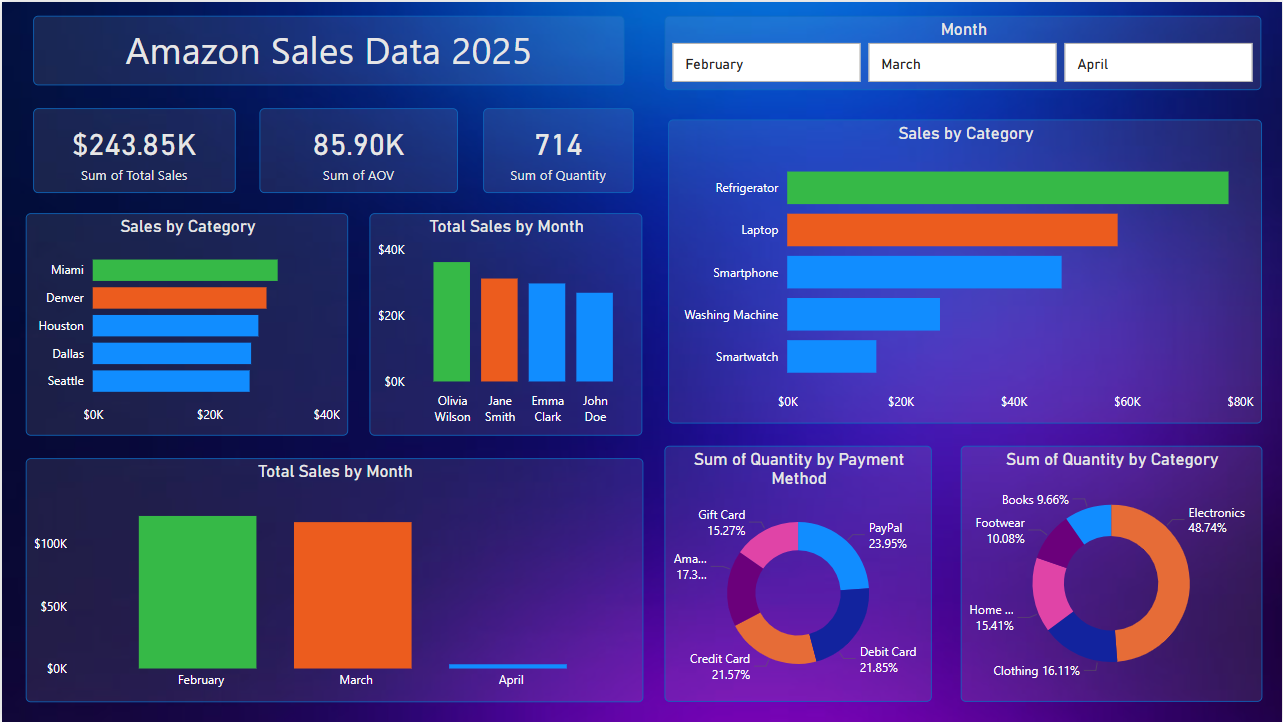

Layout of this report page (visuals, bound fields, positions):
{"tool":"powerbi","page":{"name":"Page 1","canvas":[1280,720],"ordinal":0},"visuals":[{"type":"columnChart","title":"Total Sales by Month","fields":{"Y":["amazon_sales_data 2025.Total Sales"],"Category":["amazon_sales_data 2025.Date.Variation.Date Hierarchy.Month"]},"box":[23.8,456.2,617.5,243.8],"z":0},{"type":"barChart","title":"Sales by Category","fields":{"Y":["amazon_sales_data 2025.Total Sales"],"Category":["amazon_sales_data 2025.Product"]},"box":[666.2,117.5,593.8,303.8],"z":1},{"type":"donutChart","fields":{"Category":["amazon_sales_data 2025.Category"],"Y":["amazon_sales_data 2025.Quantity"]},"box":[958.8,443.8,301.2,256.2],"z":2},{"type":"donutChart","fields":{"Y":["amazon_sales_data 2025.Quantity"],"Category":["amazon_sales_data 2025.Payment Method"]},"box":[662.5,443.8,267.5,256.2],"z":3},{"type":"card","fields":{"Values":["amazon_sales_data 2025.Total Sales"]},"box":[31.2,106.2,202.5,85],"z":4},{"type":"card","fields":{"Values":["amazon_sales_data 2025.Quantity"]},"box":[481.2,106.2,150,85],"z":5},{"type":"card","fields":{"Values":["amazon_sales_data 2025.AOV"]},"box":[257.5,106.2,198.8,85],"z":6},{"type":"barChart","title":"Sales by Category","fields":{"Y":["amazon_sales_data 2025.Total Sales"],"Category":["amazon_sales_data 2025.Customer Location"]},"box":[23.8,211.2,322.5,222.5],"z":7},{"type":"columnChart","title":"Total Sales by Month","fields":{"Y":["amazon_sales_data 2025.Total Sales"],"Category":["amazon_sales_data 2025.Customer Name"]},"box":[367.5,211.2,272.5,222.5],"z":8},{"type":"textbox","box":[31.4,13.3,591.2,70],"z":9},{"type":"advancedSlicerVisual","fields":{"Values":["amazon_sales_data 2025.Date.Variation.Date Hierarchy.Month"]},"box":[662.3,13.3,597.2,74.8],"z":10}]}

Visuals, with their boxes in screenshot pixels (x1, y1, x2, y2), scaled from the page's 1280x720 canvas onto the 1283x722 screenshot:
"Total Sales by Month" columnChart: Rect(24, 457, 643, 702)
"Sales by Category" barChart: Rect(668, 118, 1263, 422)
donutChart - amazon_sales_data 2025.Category x amazon_sales_data 2025.Quantity: Rect(961, 445, 1263, 702)
donutChart - amazon_sales_data 2025.Quantity x amazon_sales_data 2025.Payment Method: Rect(664, 445, 932, 702)
card - amazon_sales_data 2025.Total Sales: Rect(31, 106, 234, 192)
card - amazon_sales_data 2025.Quantity: Rect(482, 106, 633, 192)
card - amazon_sales_data 2025.AOV: Rect(258, 106, 457, 192)
"Sales by Category" barChart: Rect(24, 212, 347, 435)
"Total Sales by Month" columnChart: Rect(368, 212, 642, 435)
textbox: Rect(31, 13, 624, 84)
advancedSlicerVisual - amazon_sales_data 2025.Date.Variation.Date Hierarchy.Month: Rect(664, 13, 1262, 88)
